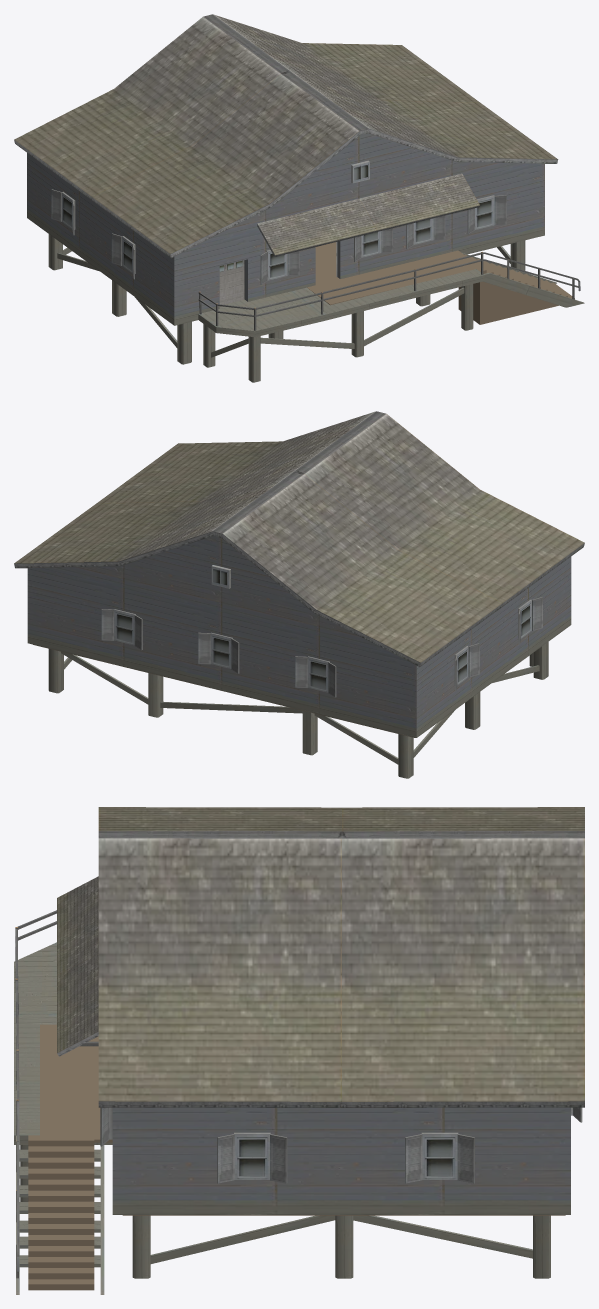
File: rural-wood-1.int-v1.lod0.glb
The picture shows the model from 3 angles, top to bottom: view 1: azimuth 30°, elevation 25°; view 2: azimuth 150°, elevation 25°; view 3: azimuth 270°, elevation 25°; orthographic projection. The views are drawn at different scales.
Parts seen in each view (by area): view 1: Rural_WoodenBuilding_1_Rural_Housetrim_1_0, Rural_WoodenBuilding_1_Rural_Walltrim_1_0, Walkable floors and stairs; view 2: Rural_WoodenBuilding_1_Rural_Housetrim_1_0, Rural_WoodenBuilding_1_Rural_Walltrim_1_0; view 3: Rural_WoodenBuilding_1_Rural_Housetrim_1_0, Rural_WoodenBuilding_1_Rural_Walltrim_1_0, Walkable floors and stairs.
Boxes of the visible parts, x1,y1,x2,y2 form: Rural_WoodenBuilding_1_Rural_Housetrim_1_0: [14, 14, 580, 330]; Rural_WoodenBuilding_1_Rural_Walltrim_1_0: [27, 133, 584, 382]; Walkable floors and stairs: [307, 242, 574, 324]; Rural_WoodenBuilding_1_Rural_Housetrim_1_0: [14, 411, 584, 697]; Rural_WoodenBuilding_1_Rural_Walltrim_1_0: [27, 536, 571, 778]; Rural_WoodenBuilding_1_Rural_Housetrim_1_0: [15, 807, 584, 1278]; Rural_WoodenBuilding_1_Rural_Walltrim_1_0: [14, 942, 570, 1294]; Walkable floors and stairs: [28, 1024, 565, 1290].
Size of the model in its own units: 21.07 by 10.44 by 17.27.
Materials: 3 (2 with a texture image).
